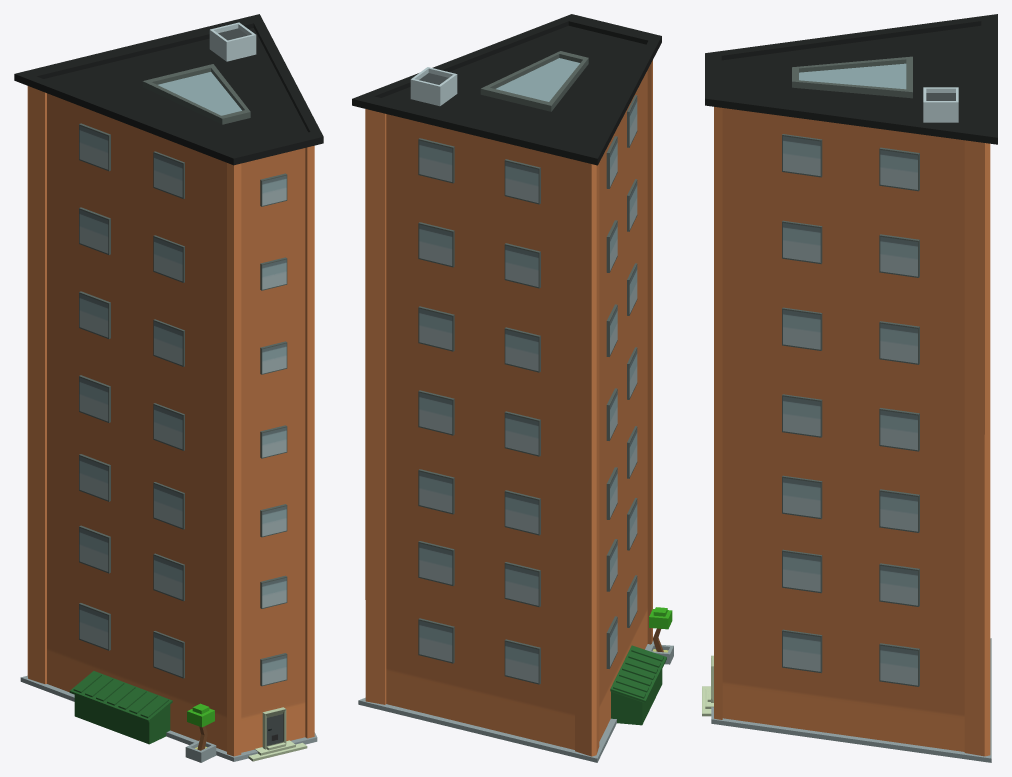
Rendered from Basic Triangular Highest.fbx.
3 renders of one model, left to right at view 1: azimuth 30°, elevation 25°; view 2: azimuth 150°, elevation 25°; view 3: azimuth 270°, elevation 25°, orthographic. The views are drawn at different scales.
Visible parts, largest first — view 1: Basic Triangular Highest; view 2: Basic Triangular Highest; view 3: Basic Triangular Highest.
Part boxes in pixels (box(x1,y1,x2,y2)): Basic Triangular Highest: box(14, 14, 323, 762); Basic Triangular Highest: box(352, 14, 673, 762); Basic Triangular Highest: box(702, 14, 997, 762).
Bounding box in the file's own units: 5.71 × 13.81 × 5.76.
